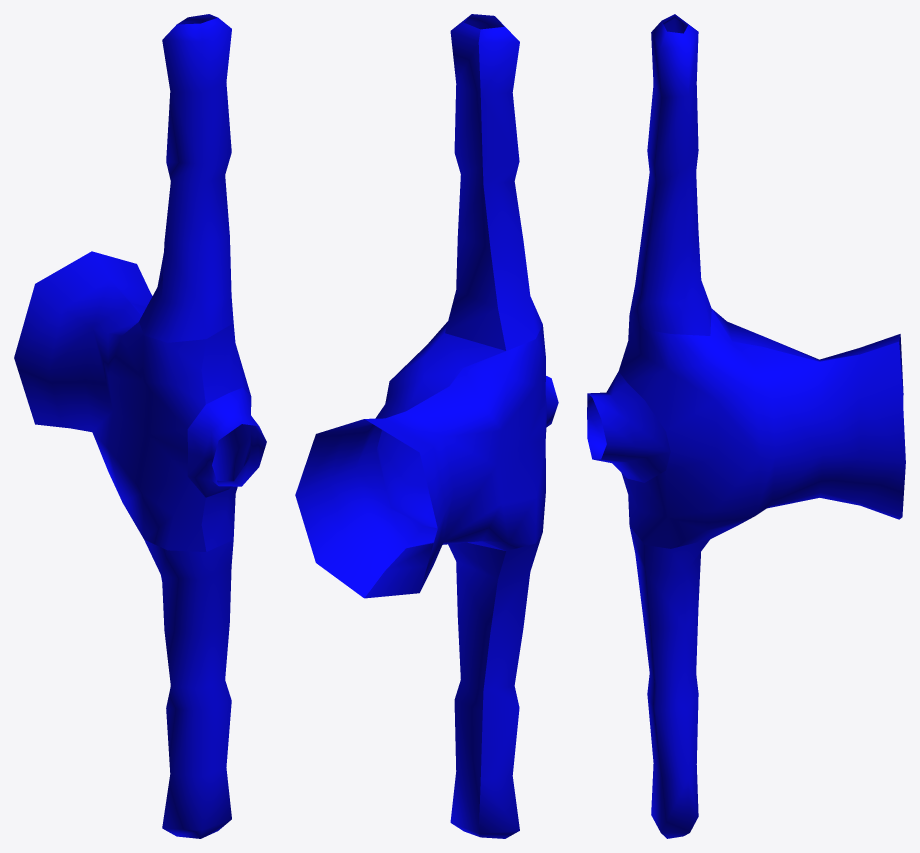
The model's file is 오리지널 상의.obj.
3 renders of one model, left to right at view 1: azimuth 30°, elevation 25°; view 2: azimuth 150°, elevation 25°; view 3: azimuth 270°, elevation 25°, orthographic.
Visible parts, largest first — view 1: ka_topbody_001; view 2: ka_topbody_001; view 3: ka_topbody_001.
Boxes of the visible parts, x1,y1,x2,y2 form: ka_topbody_001: [14, 14, 266, 838]; ka_topbody_001: [295, 14, 558, 838]; ka_topbody_001: [587, 14, 905, 838].
Bounding box in the file's own units: 27.03 × 149 × 53.2.
